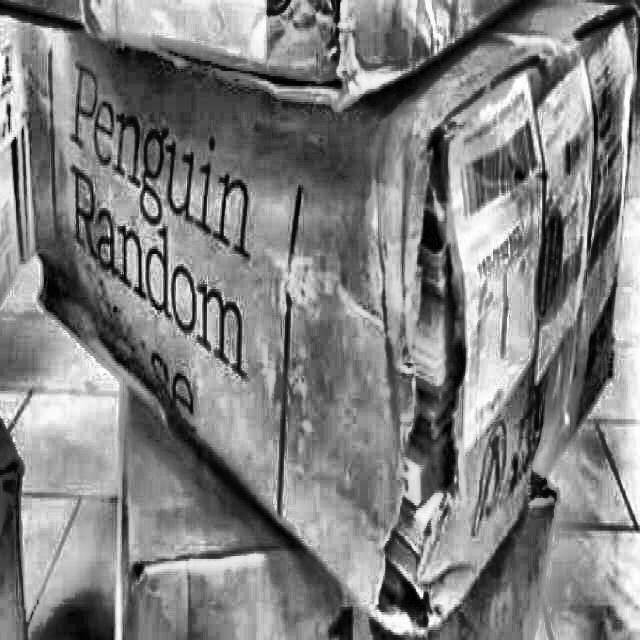box: (10, 0, 639, 639)
hole: (384, 142, 466, 632)
